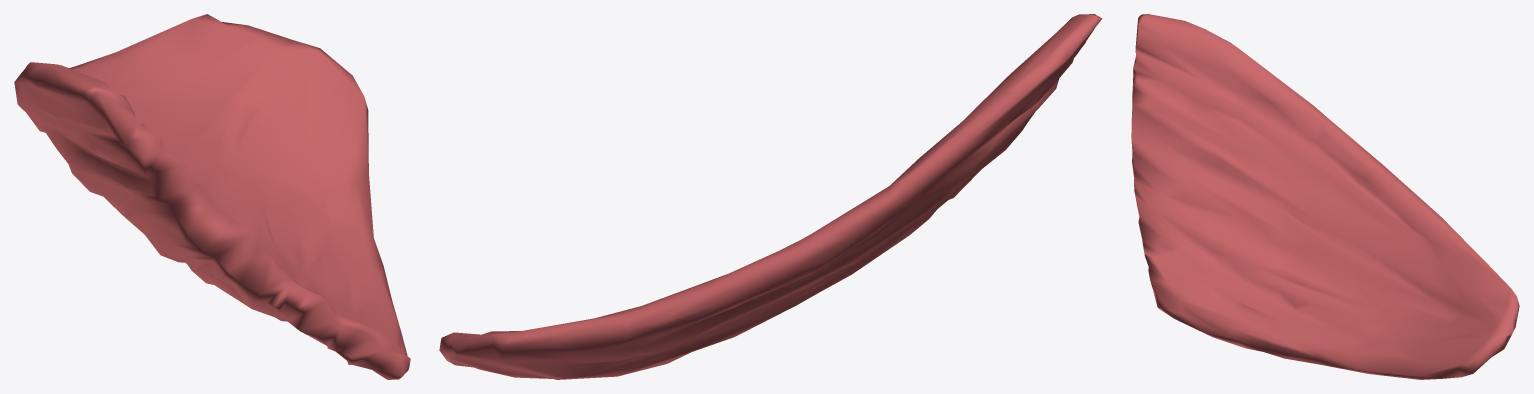
The picture shows the model from 3 angles, left to right: view 1: azimuth 30°, elevation 25°; view 2: azimuth 150°, elevation 25°; view 3: azimuth 270°, elevation 25°; orthographic projection. The views are drawn at different scales.
Visible parts, largest first — view 1: 右侧环甲肌直部; view 2: 右侧环甲肌直部; view 3: 右侧环甲肌直部.
Part boxes in pixels (bbox=[...]): 右侧环甲肌直部: bbox=[14, 14, 410, 379]; 右侧环甲肌直部: bbox=[439, 14, 1102, 379]; 右侧环甲肌直部: bbox=[1131, 14, 1519, 379].
Bounding box in the file's own units: 0.0143 × 0.0101 × 0.0152.
